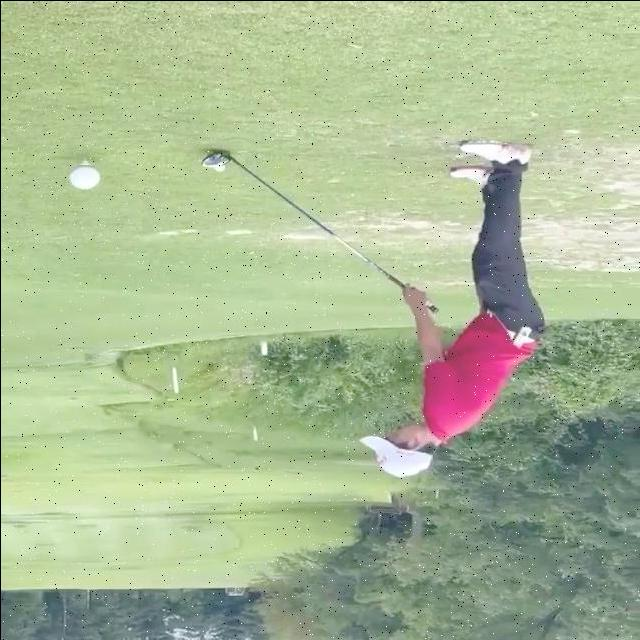ClubHandle: (196, 146, 437, 313)
ClubHead: (199, 150, 231, 166)
GolfBall: (212, 163, 226, 171)
